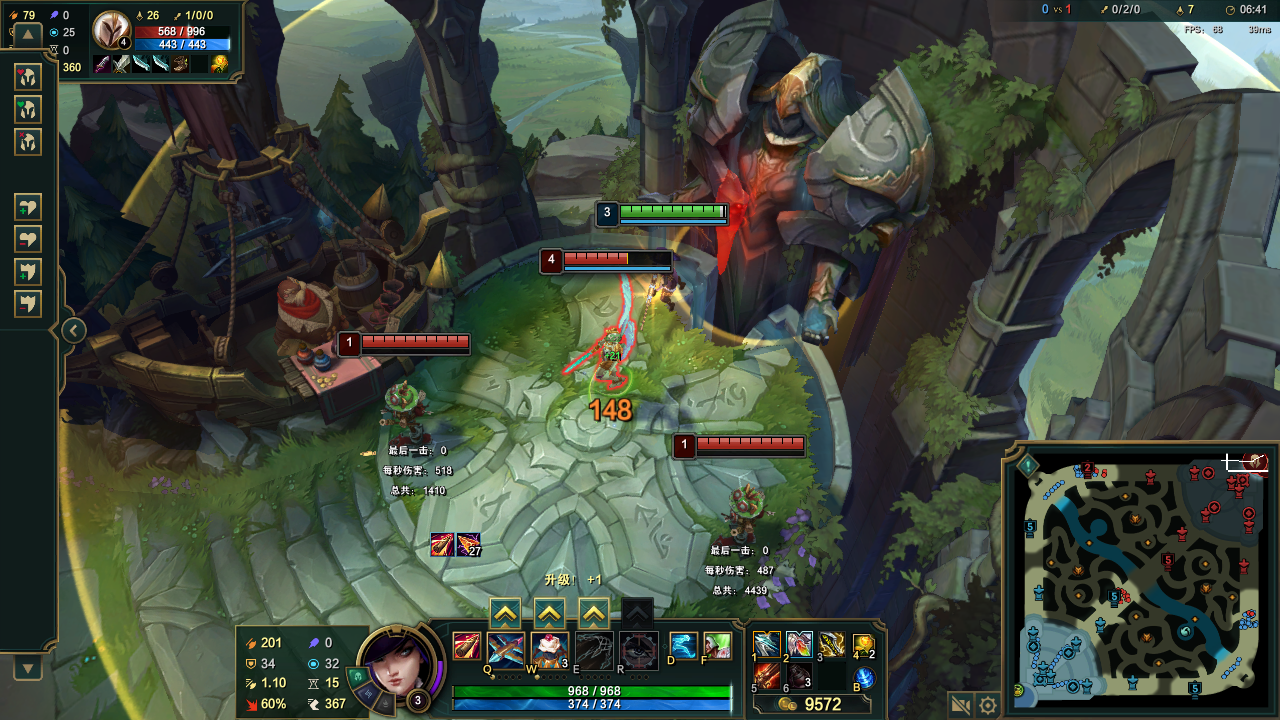DFYX: (361, 331, 474, 348), (700, 432, 810, 448), (564, 251, 671, 267)
